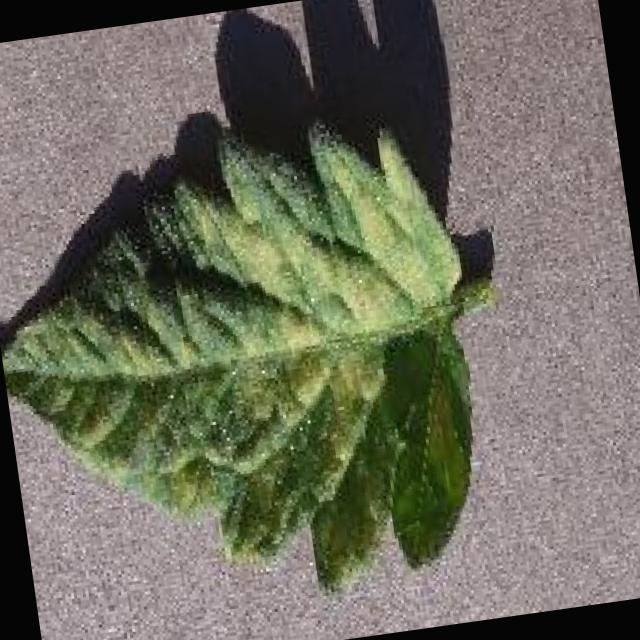leaf mold: (0, 116, 494, 586)
